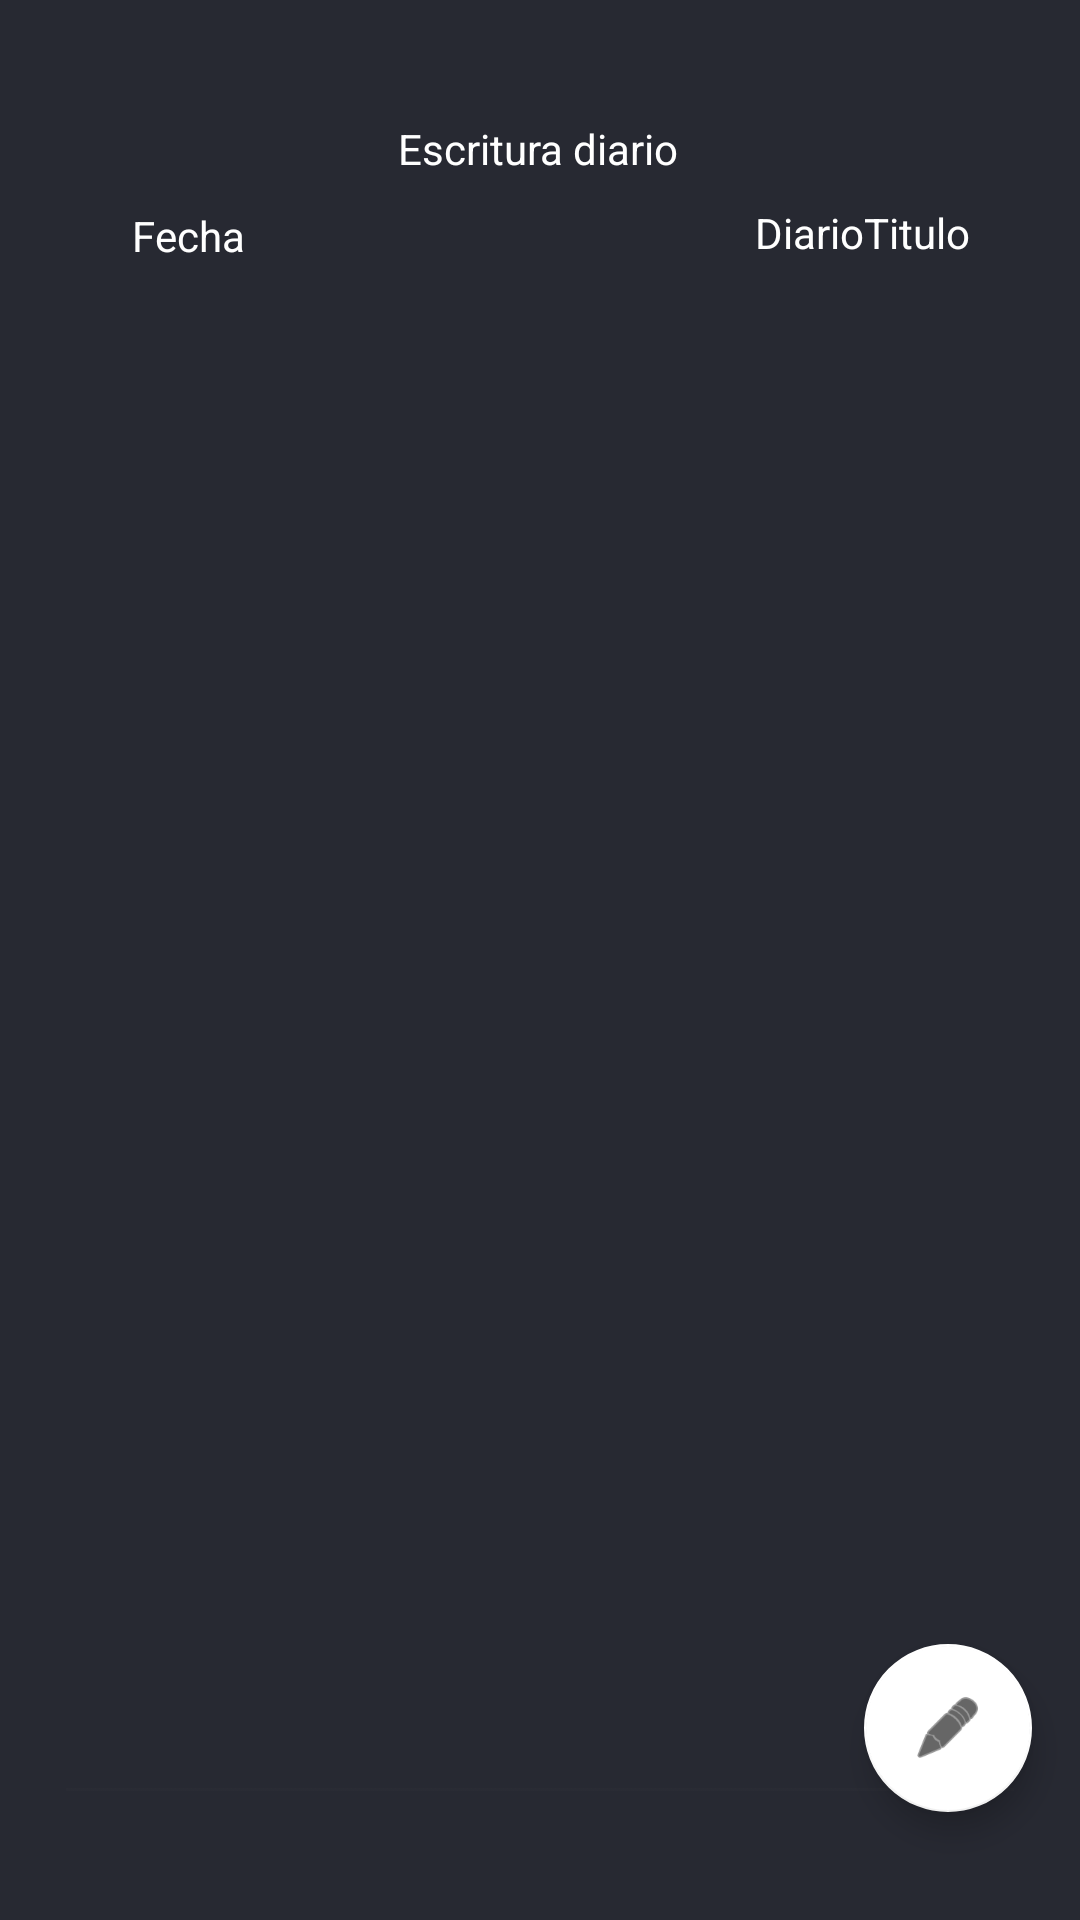

Icons on this 1080x1920 Android screen, each with the point to tap as (x,y):
edit: (948,1728)
